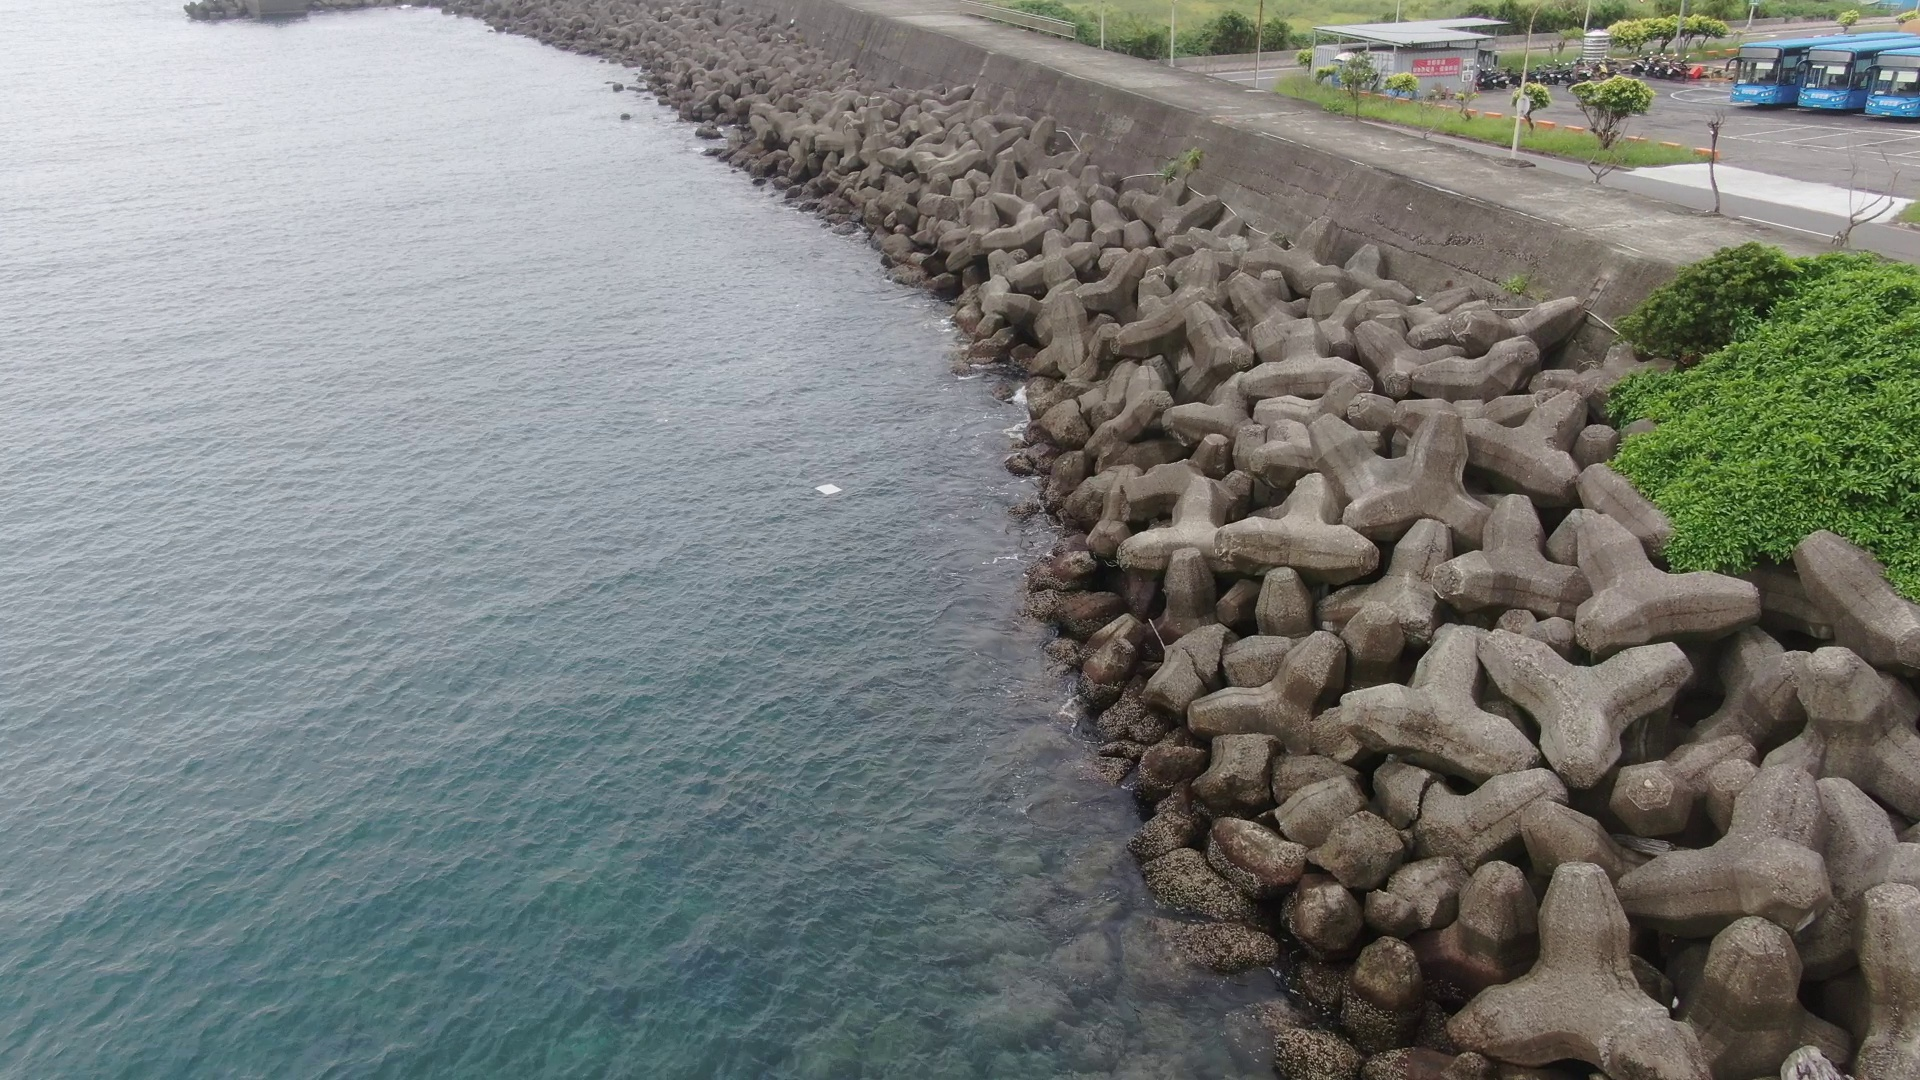garbage: (804, 476, 857, 508)
